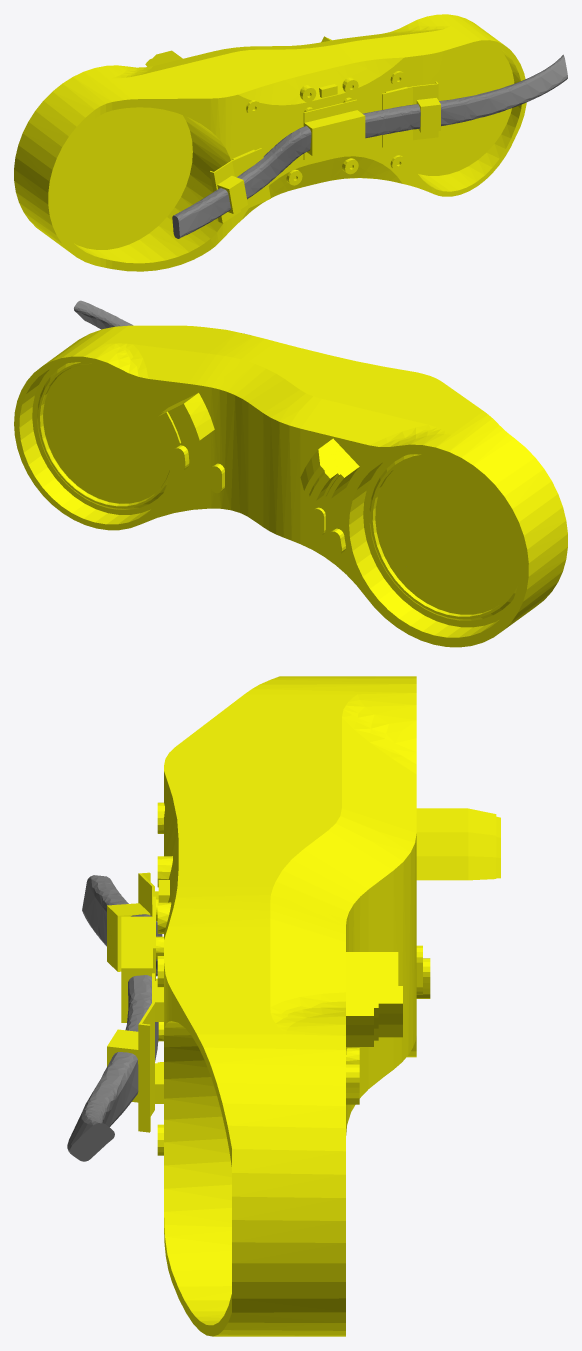
3 views of the same model, one above another, from view 1: azimuth 30°, elevation 25°; view 2: azimuth 150°, elevation 25°; view 3: azimuth 270°, elevation 25° (orthographic). The views are drawn at different scales.
Visible parts, largest first — view 1: node; view 2: node; view 3: node.
Part boxes in pixels (x1,y1,x2,y2): node: (14, 14, 567, 271); node: (14, 300, 567, 647); node: (67, 676, 500, 1336).
Bounding box in the file's own units: 1204 × 420 × 493.
